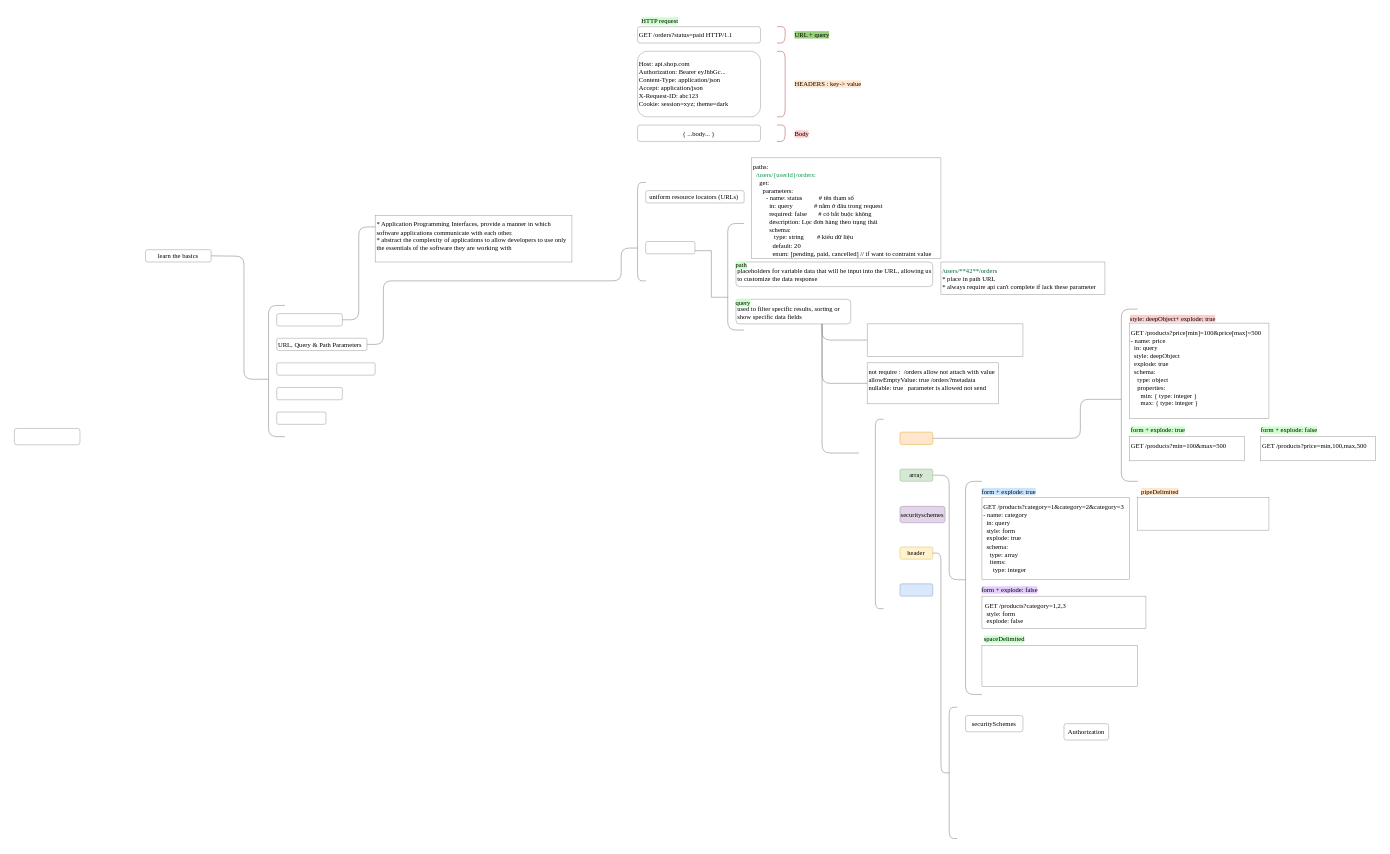
Image size: 1390x854. Some labels were removed from this diagram. The box of each missing label's shape, as (x1, y1, x2, y2) in pixels:
?**status=paid**&**limit=10** * place in path URL: (867, 323, 1023, 356)
Basics of DNS: (276, 411, 326, 424)
Build APIs: (14, 428, 80, 445)
Content Negotiation in API Design: (276, 362, 375, 375)
cookie: (899, 583, 933, 596)
GET /products?category=1%202%203 style: spaceDelimited explode: false: (981, 645, 1138, 686)
GET /products?category=1|2|3 style: pipeDelimited explode: false: (1137, 497, 1269, 530)
object: (899, 432, 933, 444)
parameters: (645, 241, 695, 254)
Understand TCP / IP: (276, 387, 342, 400)
What are APIs: (276, 313, 342, 326)
